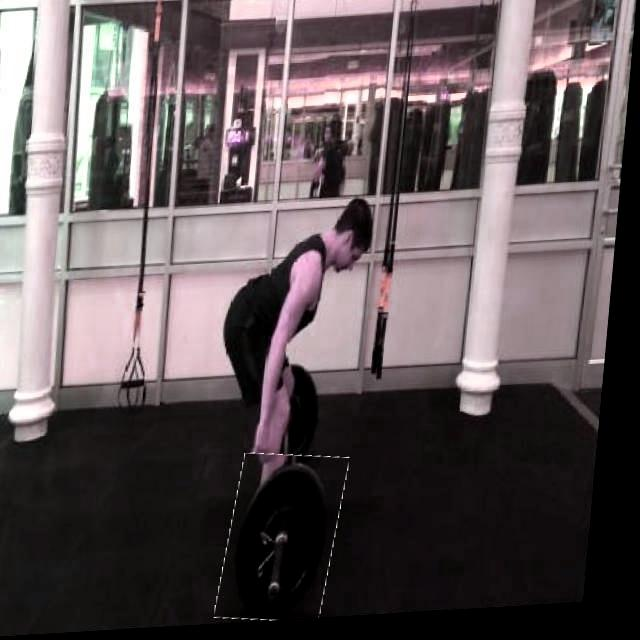barbell: (230, 455, 355, 627)
